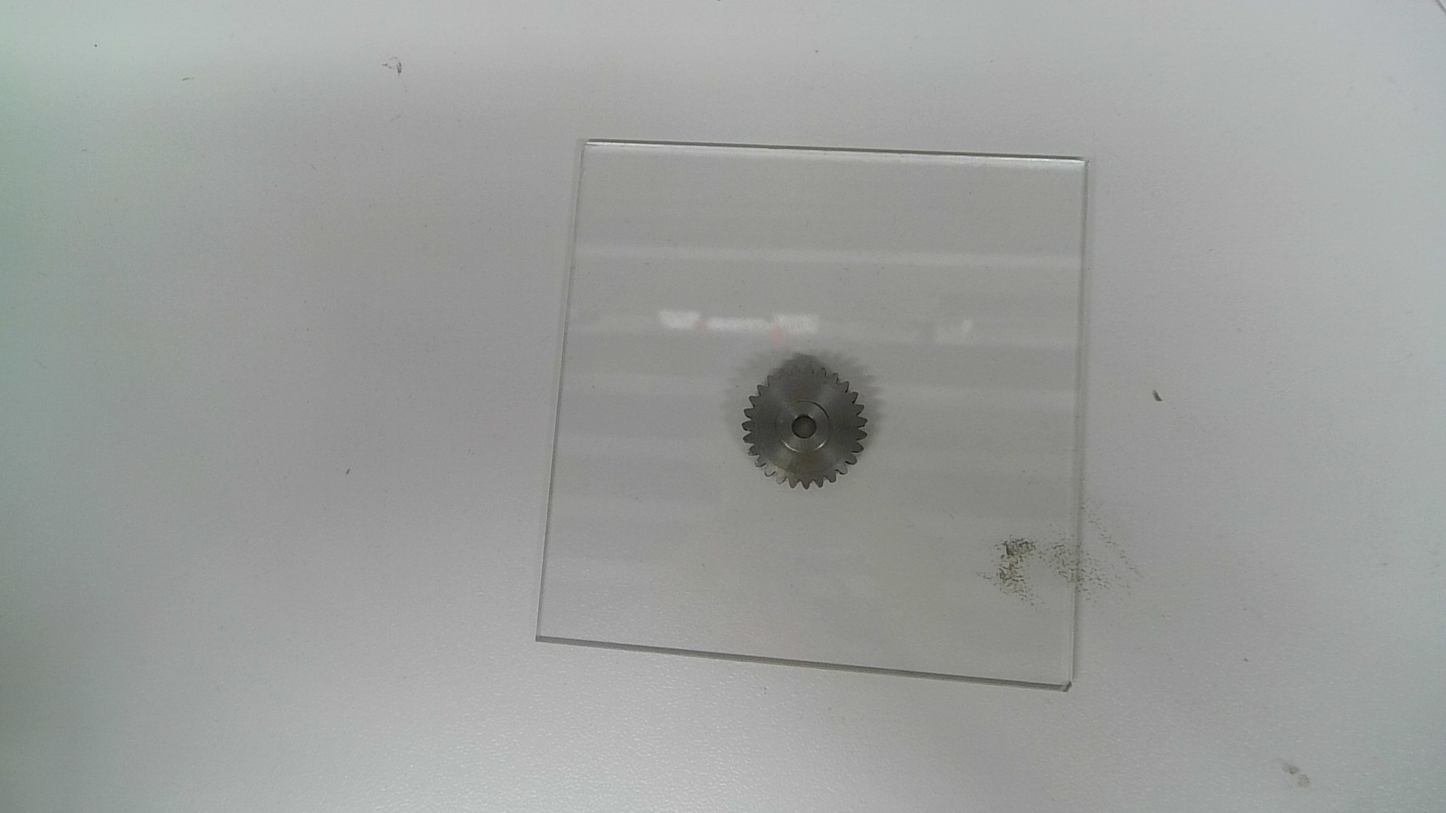gear: (741, 359, 869, 492)
